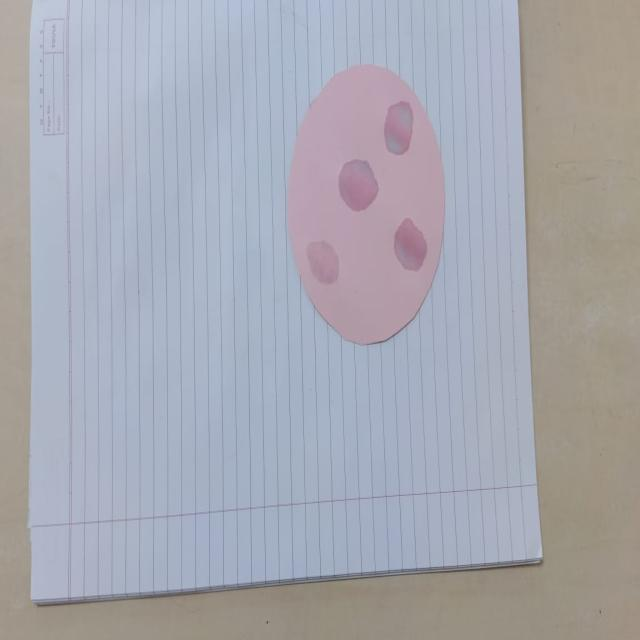BlueColor: (340, 160, 378, 210), (394, 218, 427, 270), (384, 102, 413, 154), (307, 240, 338, 284)
